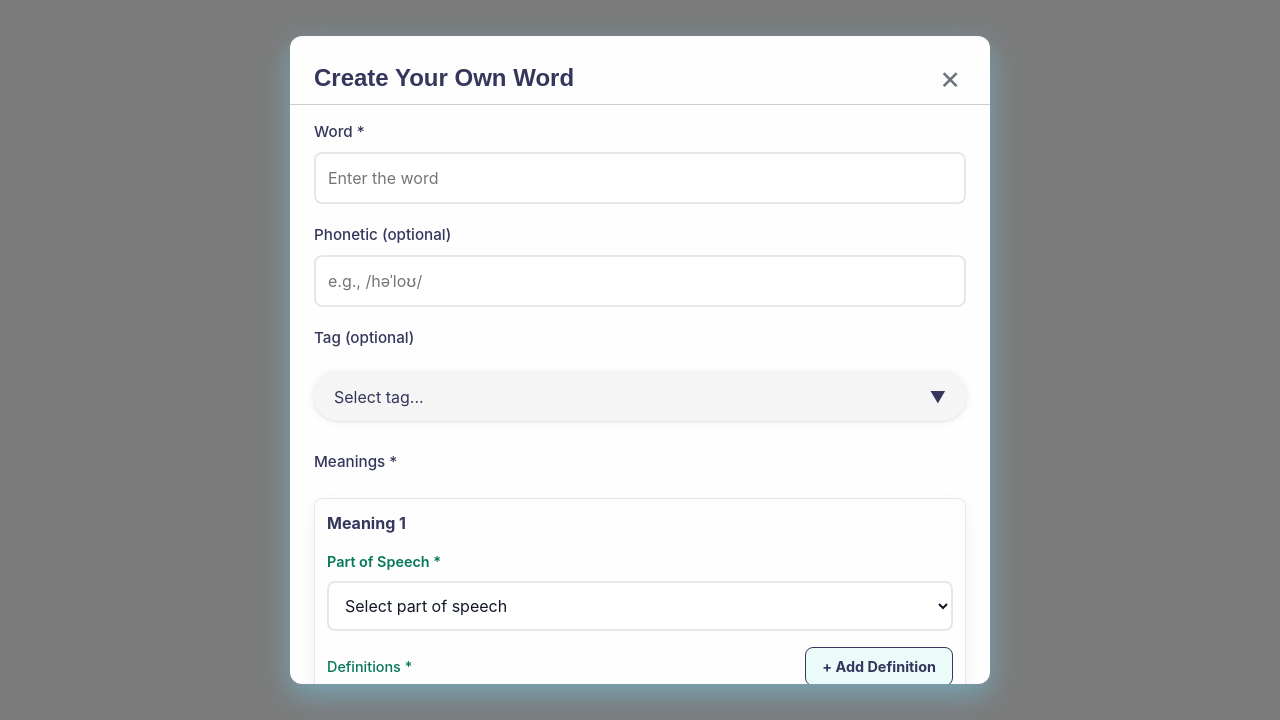
Test: add/remove meaning & definition works
Click the button "+ Add Definition" at (879, 667), box [805,647,953,686]
(page scrolled)
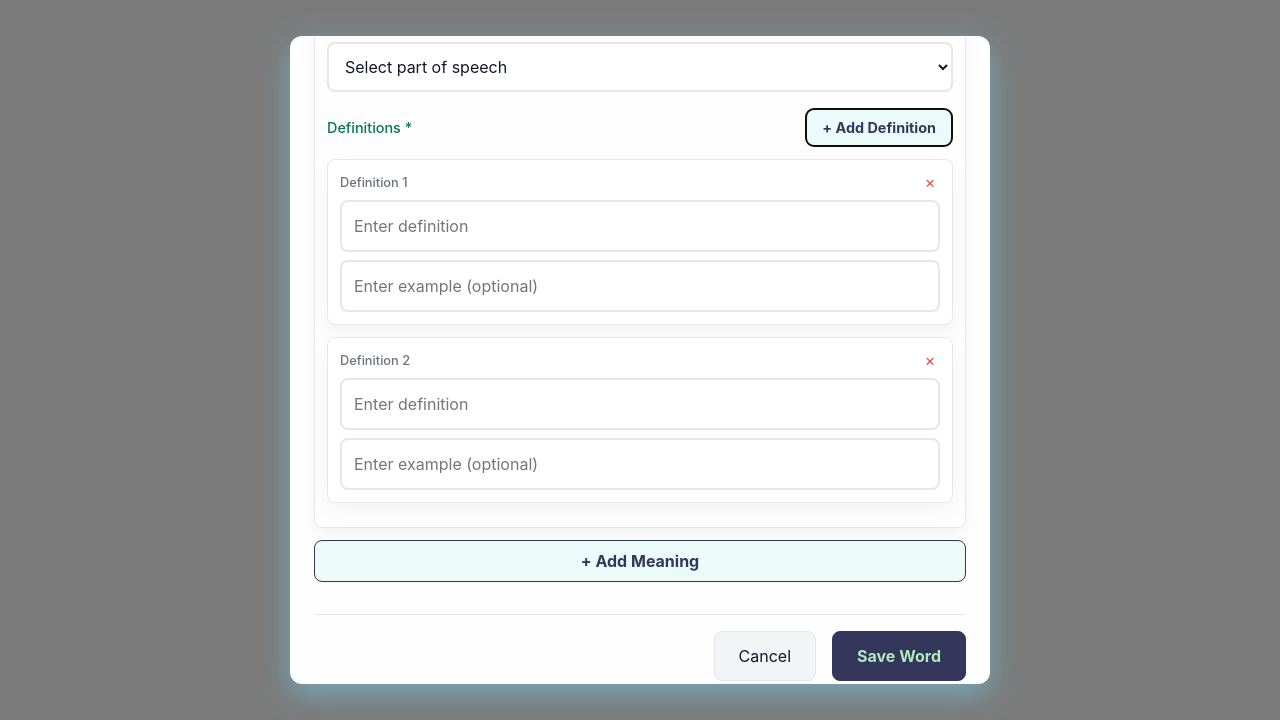
Now the number of fields with placeholder "Enter definition" is 2, box [340,200,940,252]; [340,378,940,430]
Click the 2nd button "×" at (930, 360), box [920,350,940,370]
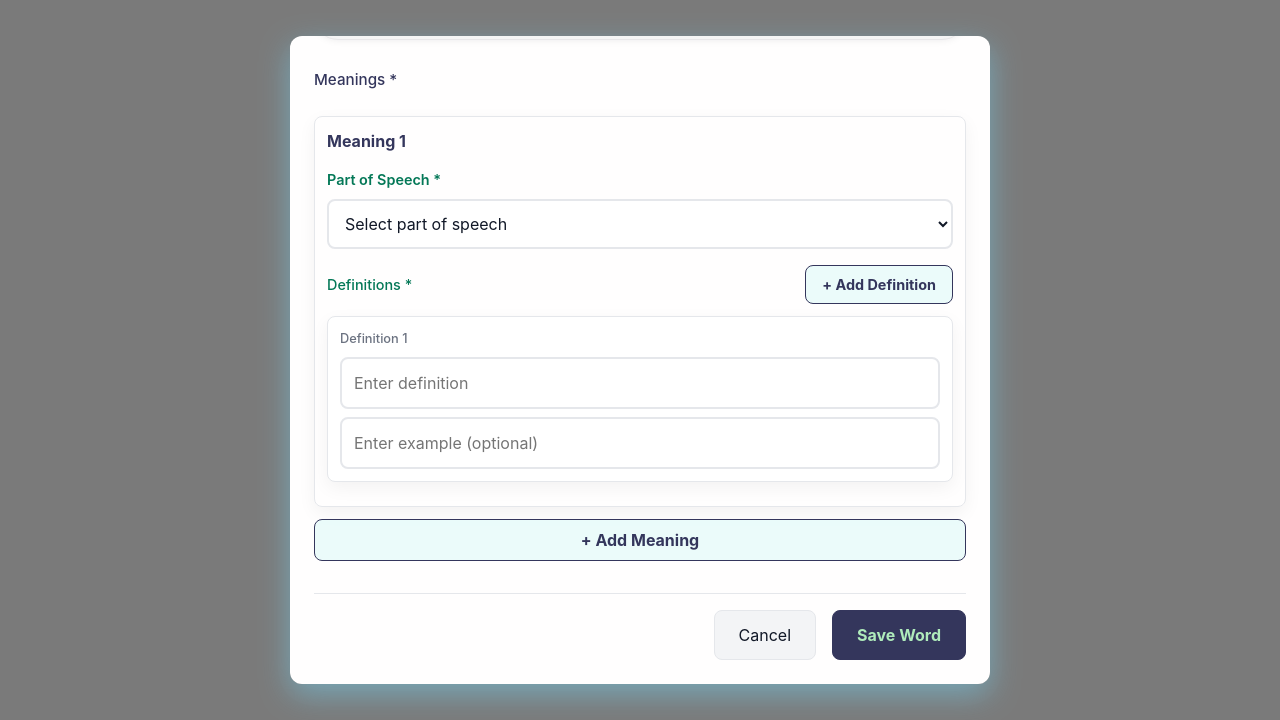
Now the number of fields with placeholder "Enter definition" is 1, box [340,357,940,409]
Click the button "+ Add Meaning" at (640, 540), box [314,519,966,561]
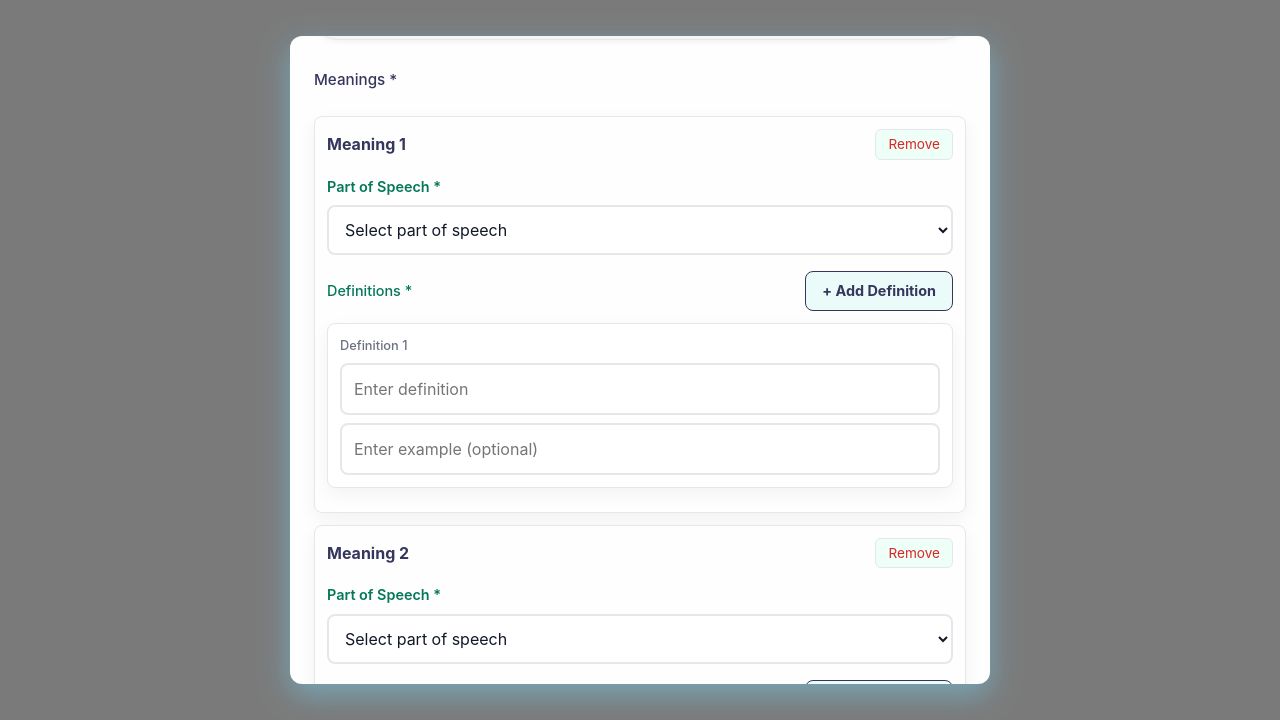
Now the number of headings "Meaning 1" is 2, box [327,132,406,156]; [327,541,409,565]
Click the 1st button "Remove" at (914, 144), box [875,129,953,160]
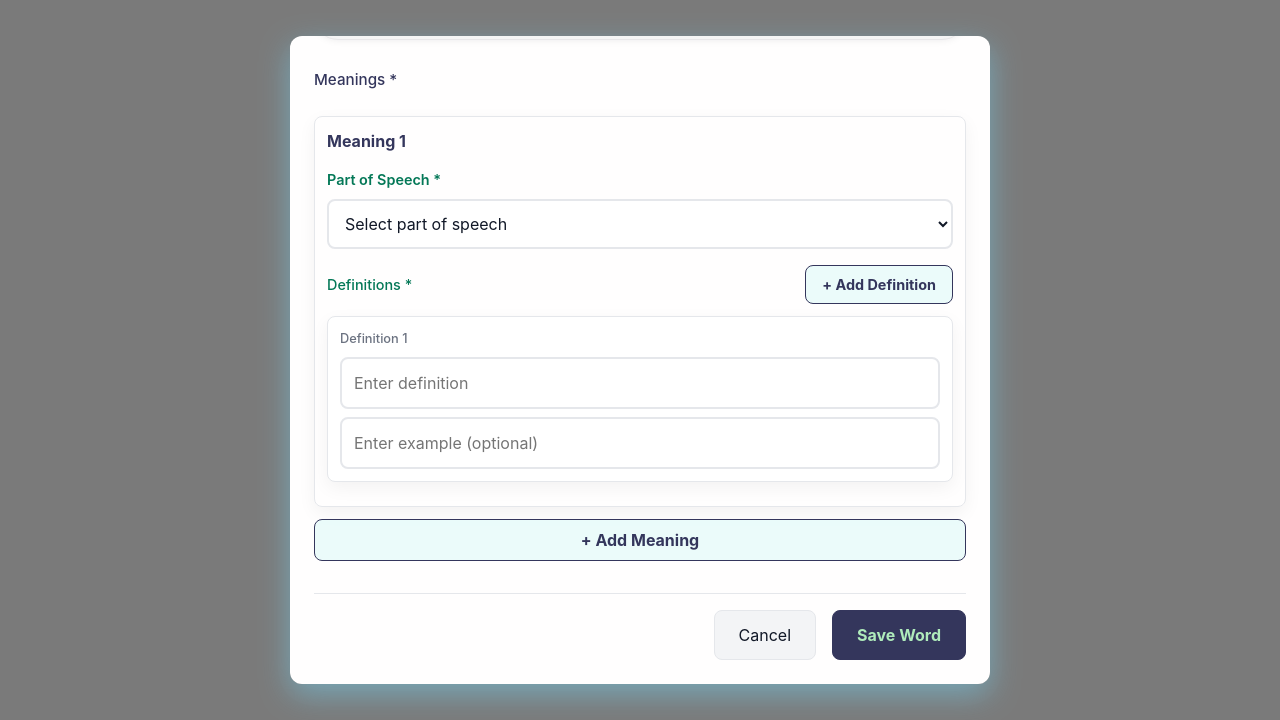
Now the number of headings "Meaning 1" is 1, box [327,129,406,153]
